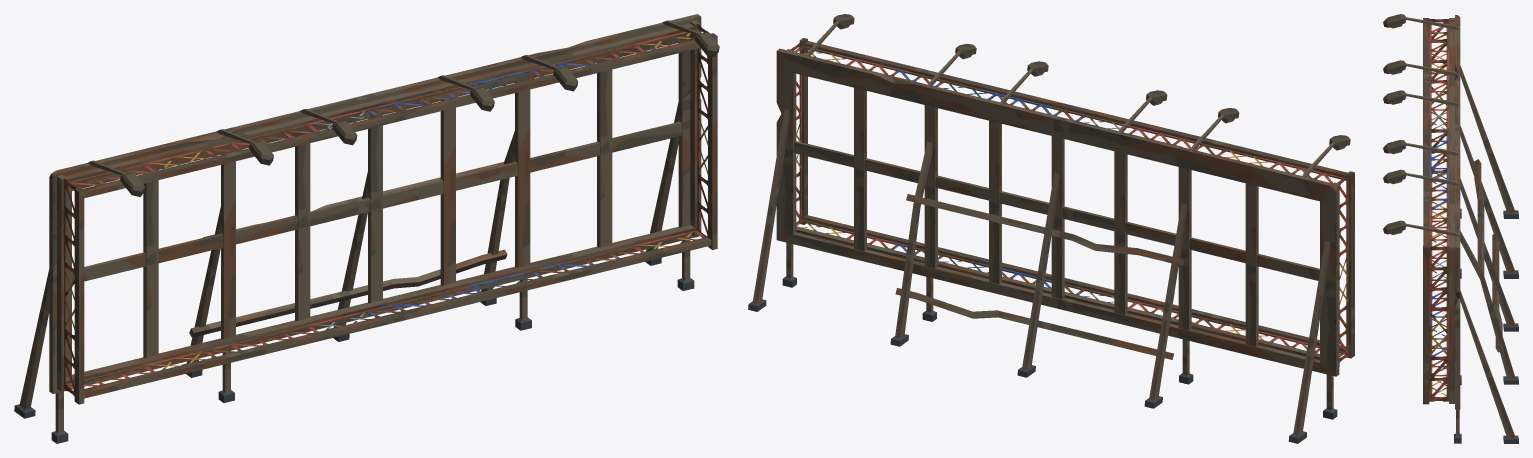
Rendered from SM_Prop_Sign_Billboard_Stand_01.obj.
3 renders of one model, left to right at view 1: azimuth 30°, elevation 25°; view 2: azimuth 150°, elevation 25°; view 3: azimuth 270°, elevation 25°, orthographic. The views are drawn at different scales.
Visible parts, largest first — view 1: SM_Prop_Sign_Billboard_Stand_01_1, SM_Prop_Sign_Billboard_Stand_01_0; view 2: SM_Prop_Sign_Billboard_Stand_01_1, SM_Prop_Sign_Billboard_Stand_01_0; view 3: SM_Prop_Sign_Billboard_Stand_01_1, SM_Prop_Sign_Billboard_Stand_01_0.
Part boxes in pixels (box(x1,y1,x2,y2)): SM_Prop_Sign_Billboard_Stand_01_1: box(14, 14, 719, 443); SM_Prop_Sign_Billboard_Stand_01_0: box(64, 24, 710, 396); SM_Prop_Sign_Billboard_Stand_01_1: box(748, 14, 1354, 443); SM_Prop_Sign_Billboard_Stand_01_0: box(791, 41, 1348, 362); SM_Prop_Sign_Billboard_Stand_01_1: box(1383, 14, 1518, 443); SM_Prop_Sign_Billboard_Stand_01_0: box(1429, 19, 1449, 401).
Bounding box in the file's own units: 9.04 × 3.84 × 2.23.
2 materials, 2 textured.
